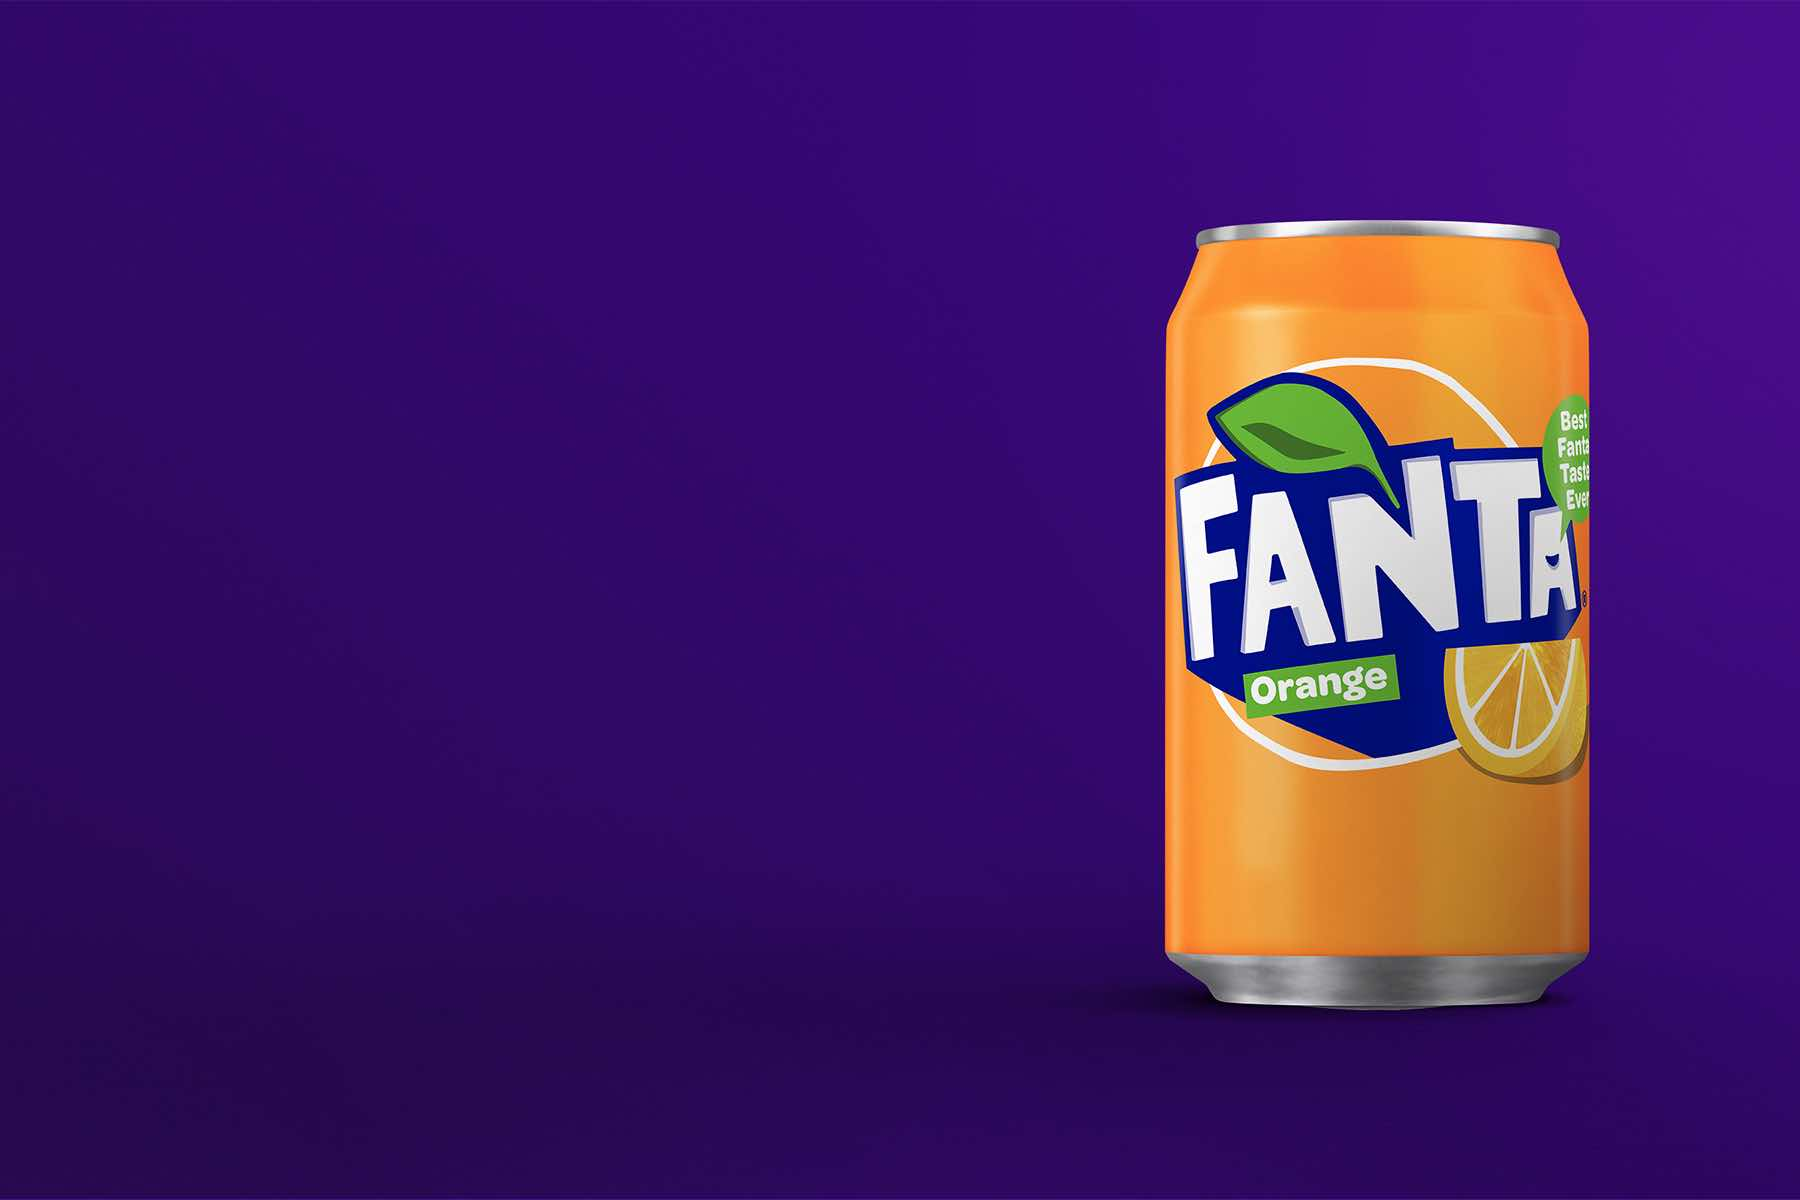Fanta: (1150, 234, 1599, 1008)
